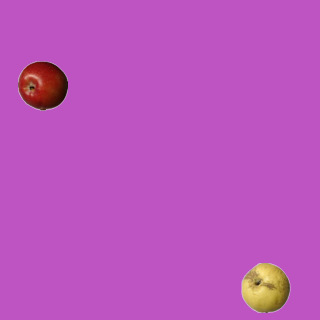Apple Braeburn: (17, 60, 67, 110)
Apple Golden 1: (240, 262, 290, 312)
